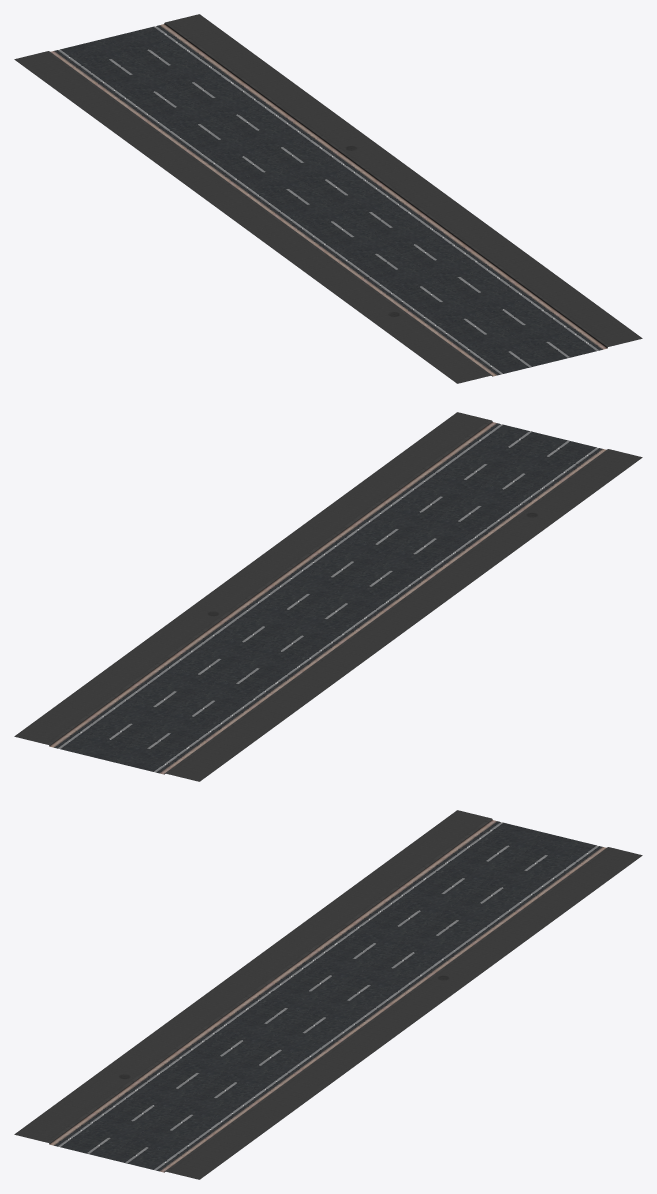
File: or_city_road_3ways.fbx
3 views of the same model, one above another, from view 1: azimuth 30°, elevation 25°; view 2: azimuth 150°, elevation 25°; view 3: azimuth 330°, elevation 25° (orthographic).
Parts seen in each view (by area): view 1: obj0; view 2: obj0; view 3: obj0.
Boxes of the visible parts, x1,y1,x2,y2 form: obj0: [14, 14, 642, 383]; obj0: [14, 412, 642, 781]; obj0: [14, 810, 642, 1179].
Bounding box in the file's own units: 36.83 × 0.254 × 152.
